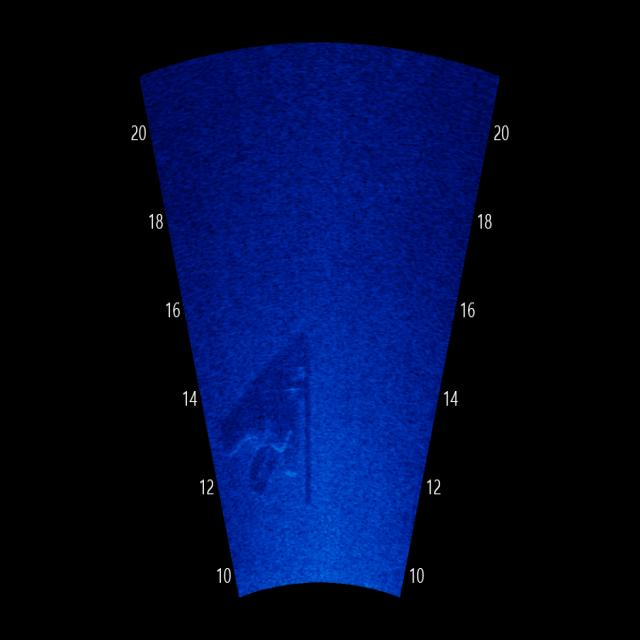triangle: (217, 341, 334, 521)
